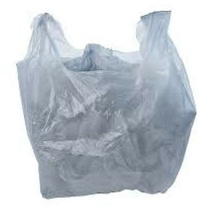plastic_bag: (11, 5, 200, 203)
